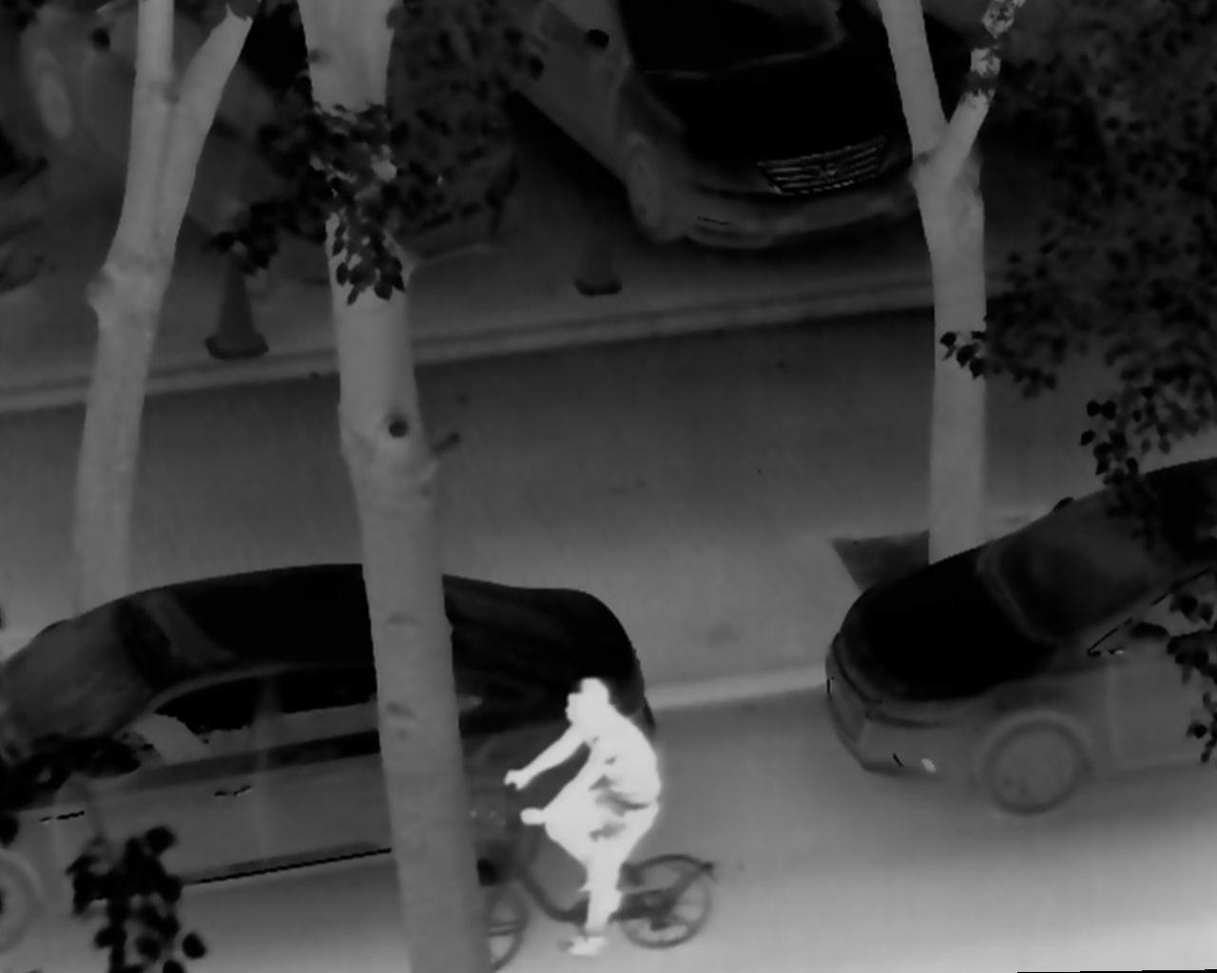person: (506, 677, 660, 958)
